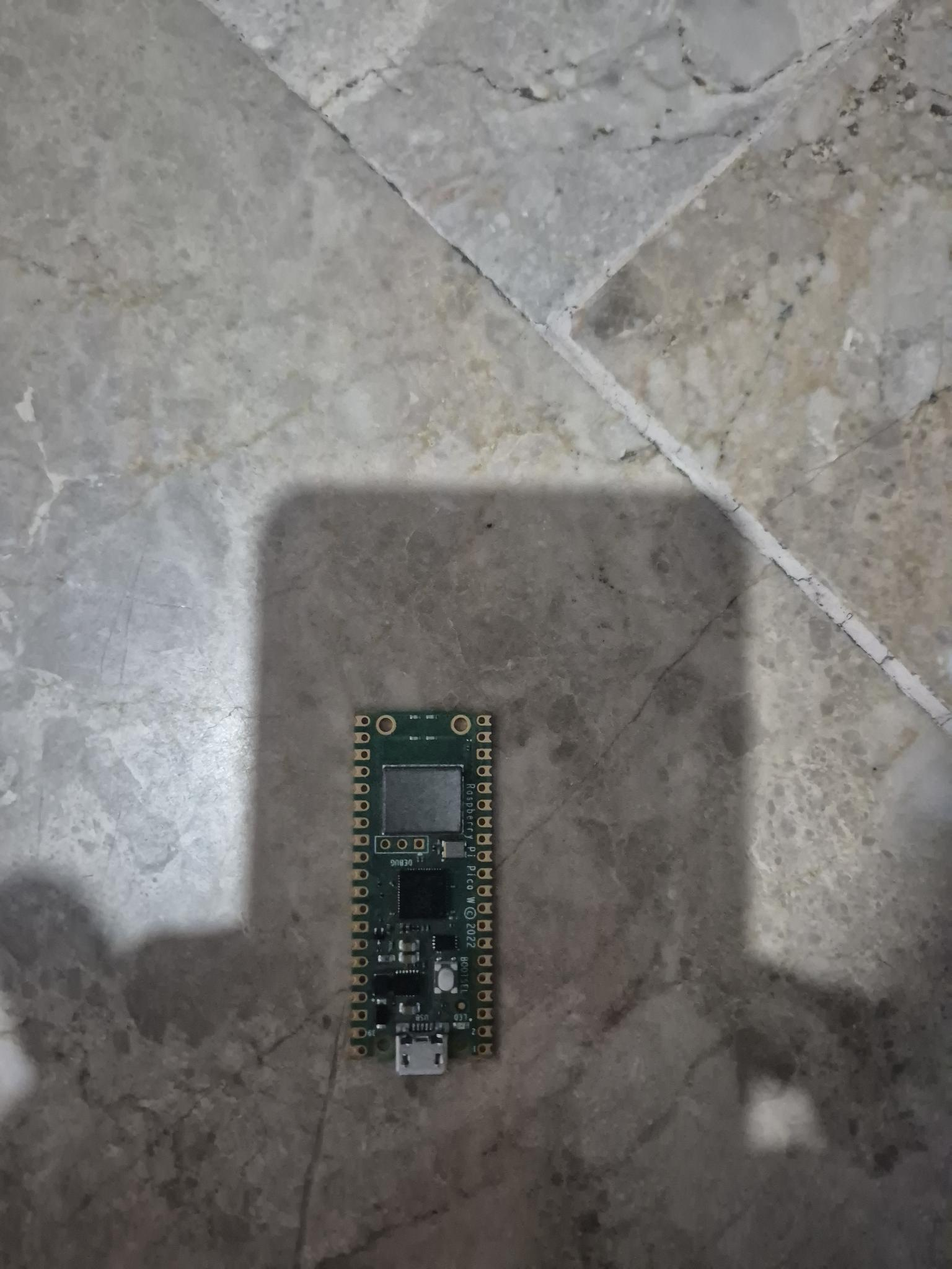raspberry-pi-pico-w: (339, 707, 505, 1078)
